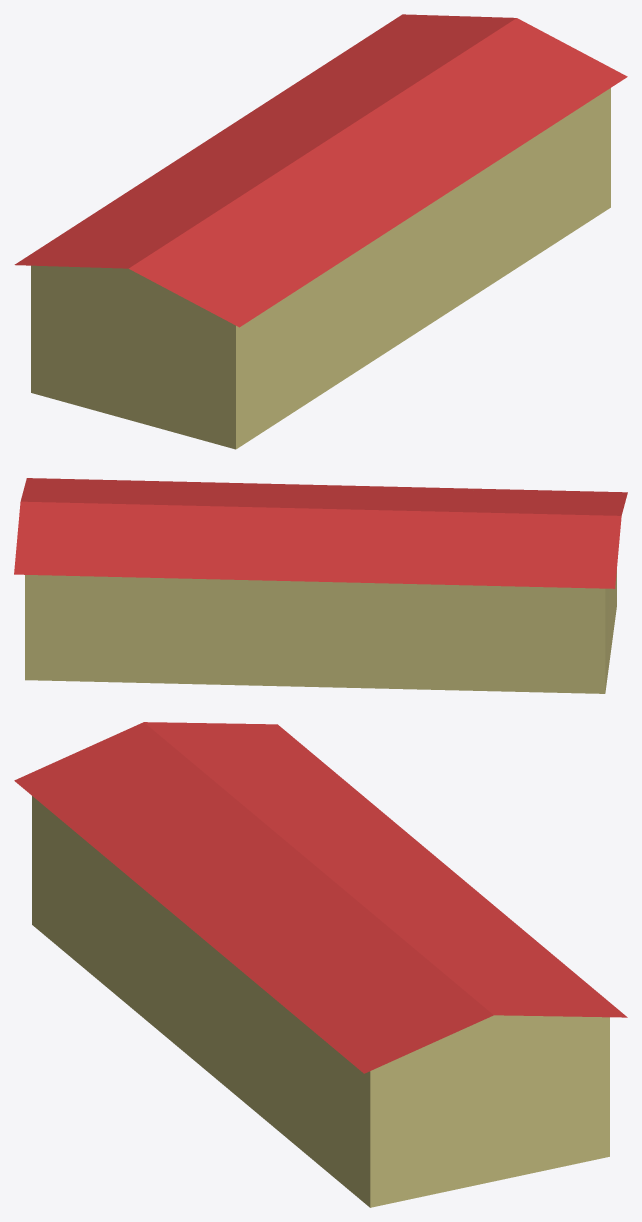
3 views of the same model, one above another, from view 1: azimuth 30°, elevation 25°; view 2: azimuth 150°, elevation 25°; view 3: azimuth 270°, elevation 25° (orthographic). The views are drawn at different scales.
Bounding box in the file's own units: 30.73 × 22.82 × 7.07.
